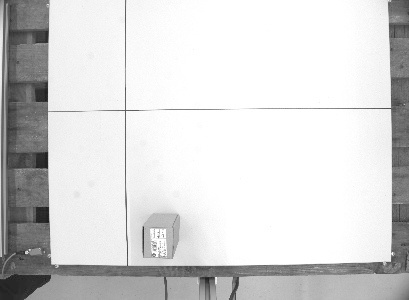b2: (139, 210, 182, 261)
